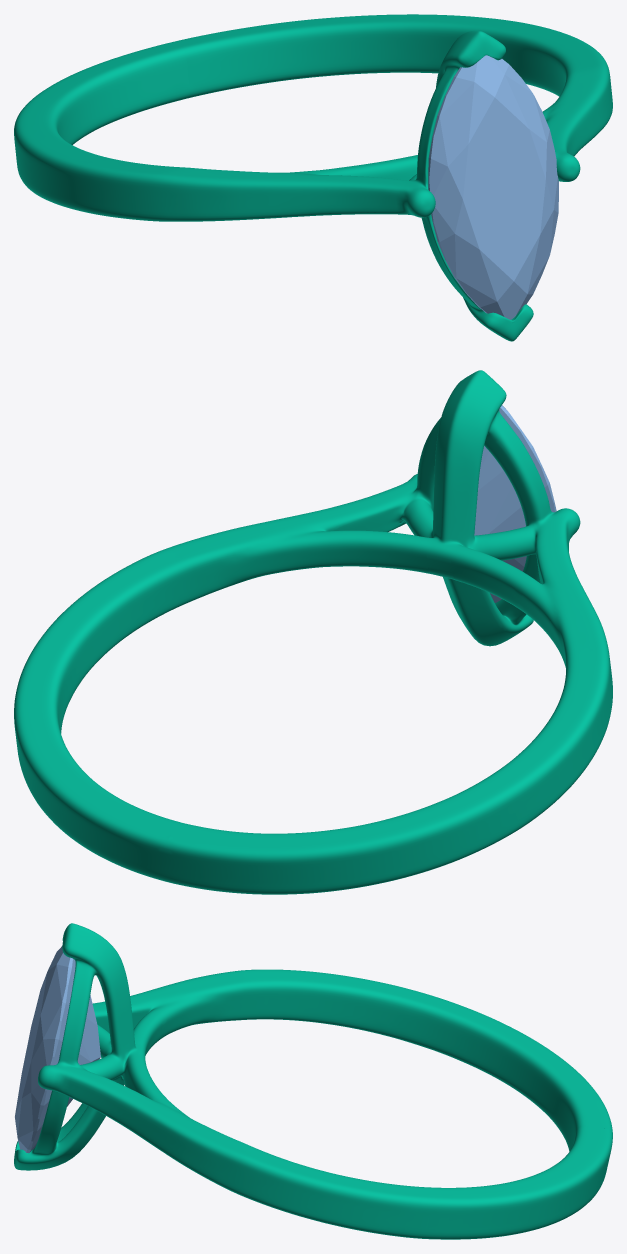
3 views of the same model, one above another, from view 1: azimuth 30°, elevation 25°; view 2: azimuth 150°, elevation 25°; view 3: azimuth 270°, elevation 25° (orthographic). The views are drawn at different scales.
Visible parts, largest first — view 1: FOR RENDER.3dm, Diamond_Marquise; view 2: FOR RENDER.3dm, Diamond_Marquise; view 3: FOR RENDER.3dm, Diamond_Marquise.
Part boxes in pixels (x1,y1,x2,y2): FOR RENDER.3dm: [14, 14, 612, 341]; Diamond_Marquise: [428, 55, 558, 319]; FOR RENDER.3dm: [14, 370, 612, 894]; Diamond_Marquise: [474, 405, 556, 602]; FOR RENDER.3dm: [14, 923, 612, 1239]; Diamond_Marquise: [15, 946, 100, 1153].
Bounding box in the file's own units: 2.46 × 1.3 × 2.87.
